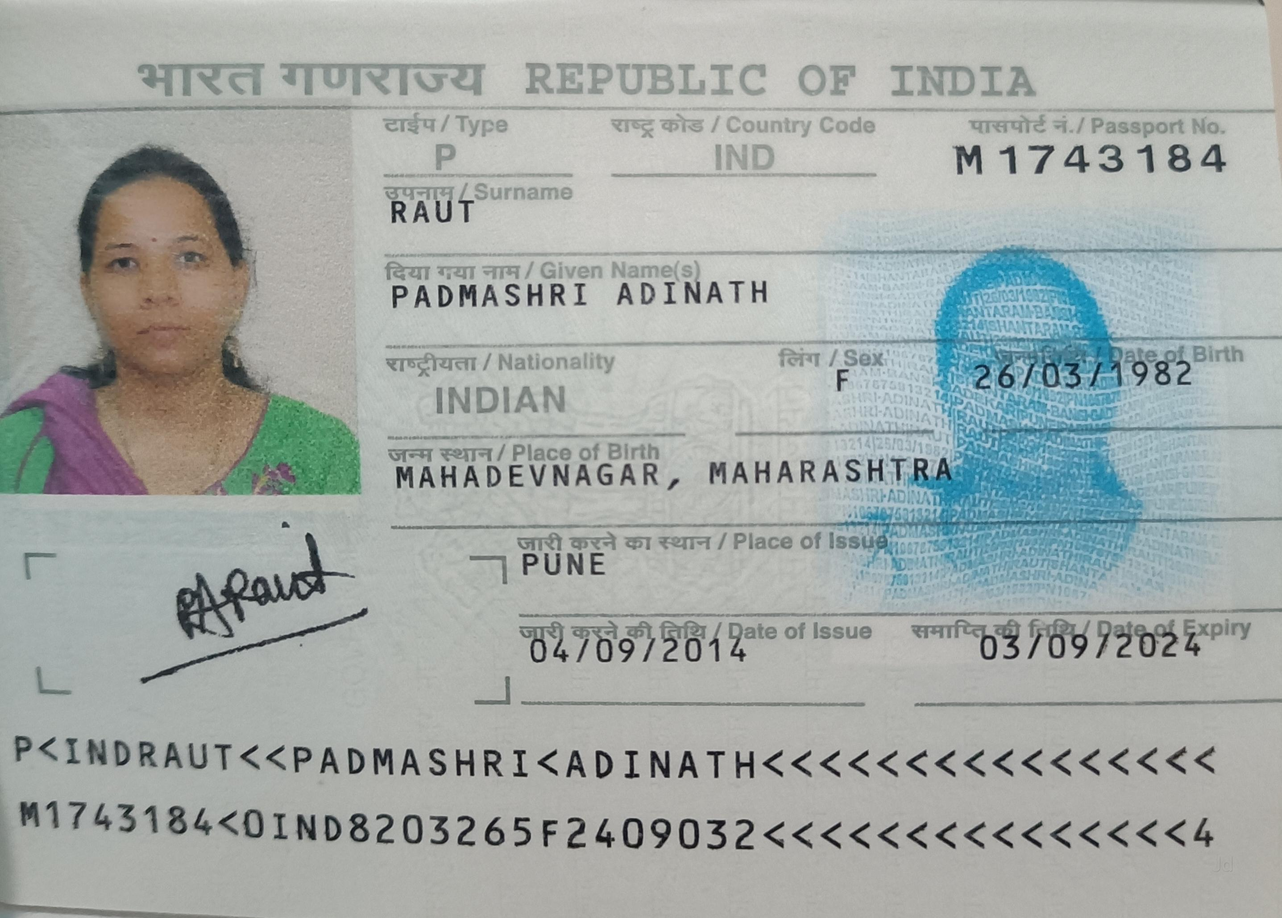DOB: (962, 351, 1205, 403)
Surname: (378, 192, 480, 235)
country_code: (701, 138, 788, 192)
date_of_expiry: (968, 623, 1208, 678)
date_of_issue: (521, 634, 767, 681)
details: (10, 717, 1242, 856)
name: (390, 278, 779, 321)
nationality: (424, 373, 584, 423)
passport_no: (952, 135, 1241, 193)
photo: (6, 115, 360, 479)
place_of_birth: (385, 457, 965, 494)
place_of_issue: (513, 547, 620, 591)
sex: (830, 363, 870, 405)
sign: (134, 547, 372, 664)
type: (418, 134, 472, 178)
